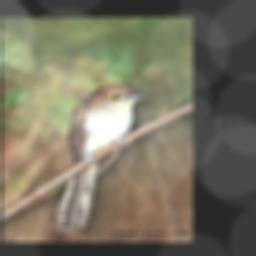Cuckoo: (54, 83, 146, 232)
